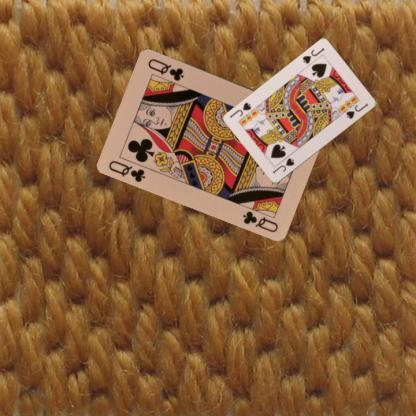Js: (270, 155, 296, 175), (300, 46, 326, 65)
Qc: (107, 158, 148, 184)
